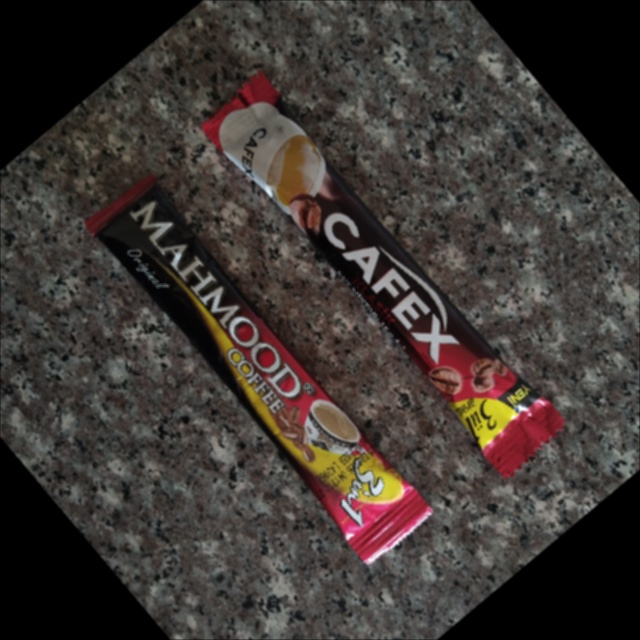cafex_kahve: (203, 72, 561, 475)
mahmood_kahve: (85, 176, 431, 562)
